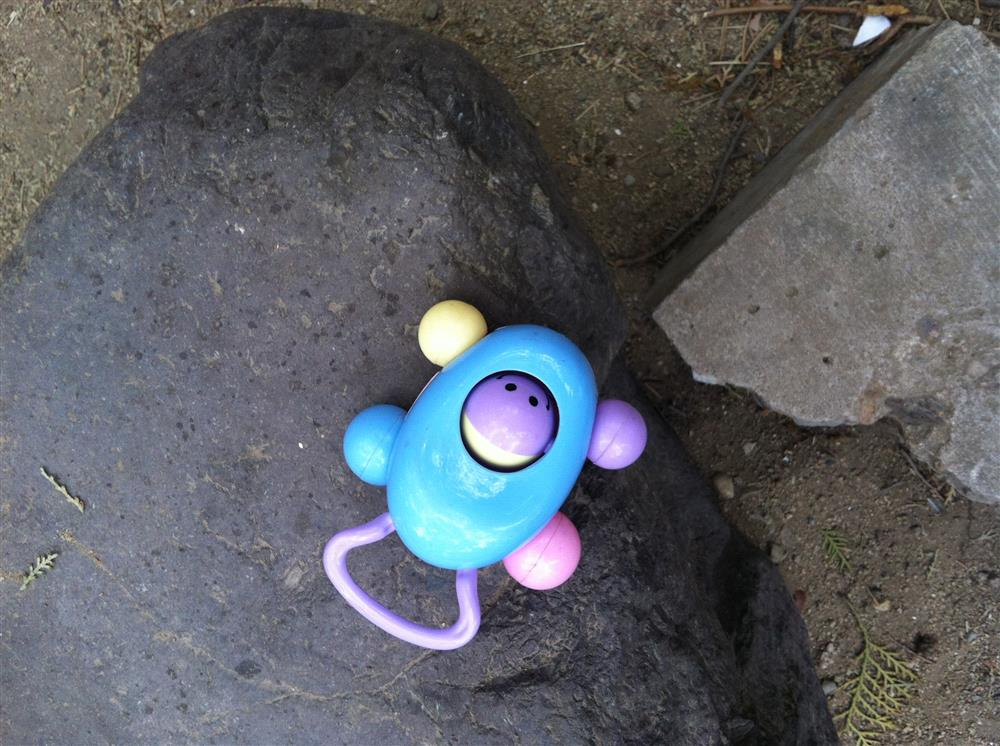toy_carman: (326, 300, 644, 648)
